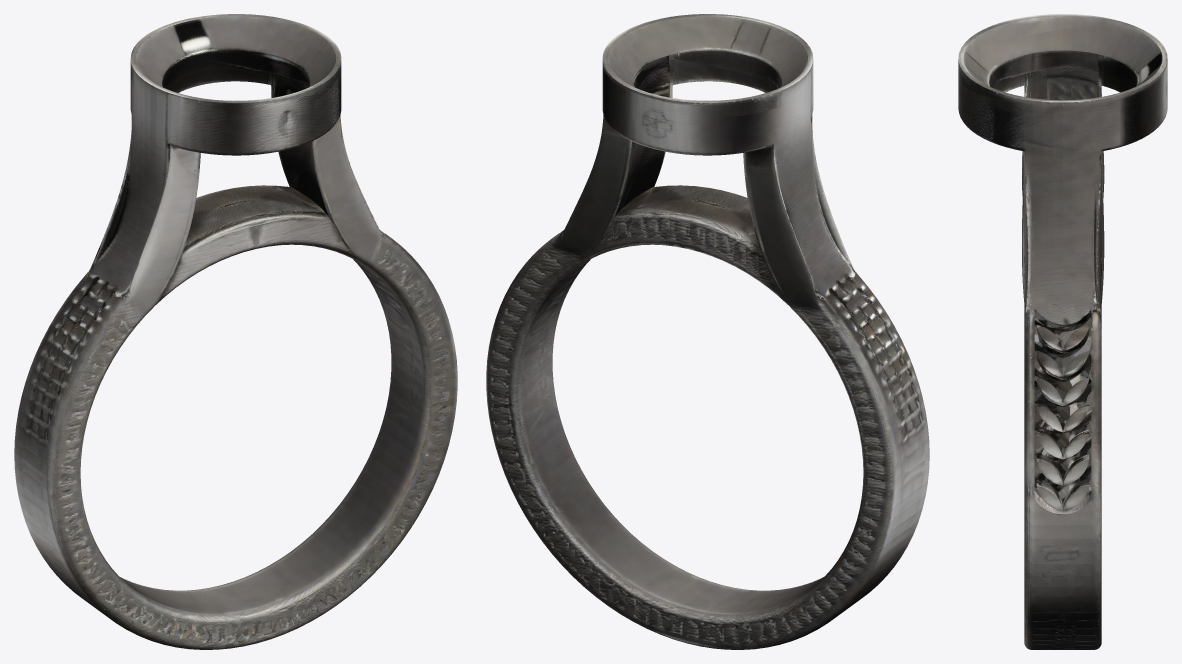
The model's file is textured_simple.glb.
3 views of the same model, side by side, from view 1: azimuth 30°, elevation 25°; view 2: azimuth 150°, elevation 25°; view 3: azimuth 270°, elevation 25° (orthographic).
Visible parts, largest first — view 1: Node; view 2: Node; view 3: Node.
Part boxes in pixels (x1=…): Node: x1=14, y1=14, x2=457, y2=649; Node: x1=486, y1=14, x2=929, y2=649; Node: x1=958, y1=14, x2=1167, y2=649.
Bounding box in the file's own units: 1.5 × 2 × 0.6658.
1 material, 1 textured.
